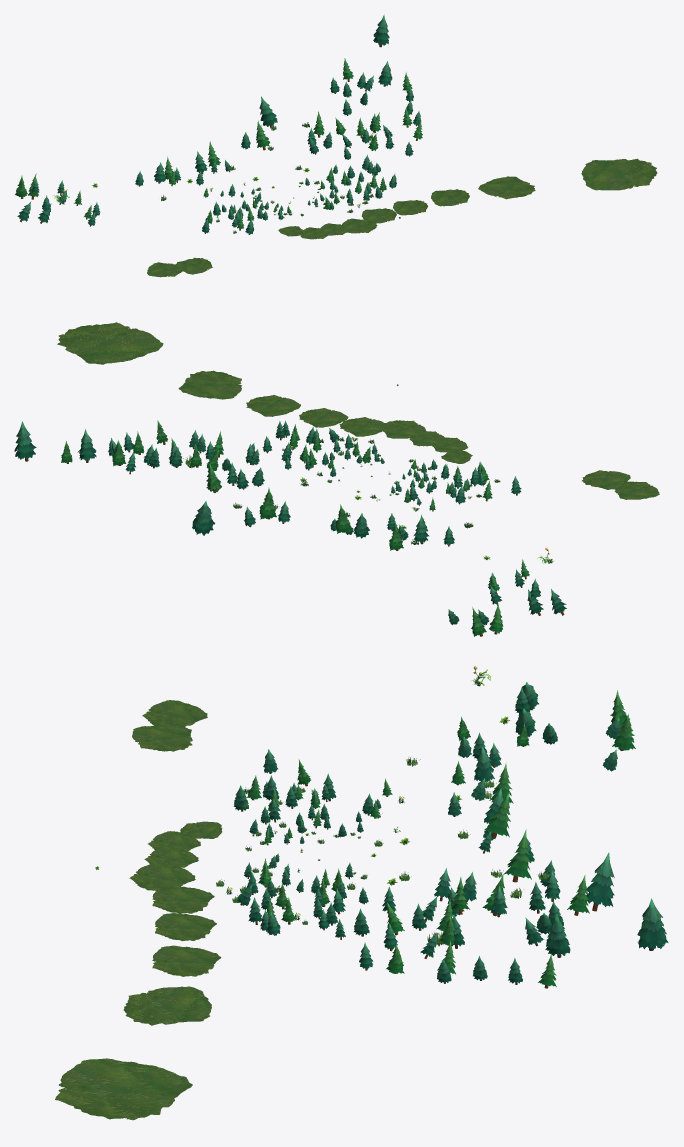
The model's file is ZhiWu.fbx.
3 renders of one model, top to bottom at view 1: azimuth 30°, elevation 25°; view 2: azimuth 150°, elevation 25°; view 3: azimuth 270°, elevation 25°, orthographic. The views are drawn at different scales.
Parts seen in each view (by area): view 1: ZhuCheng_Toutie_01 (10), ZhuCheng_Toutie_01 (9), ZhuCheng_Toutie_01 (6), ZhuCheng_Toutie_01 (3), ZhuCheng_Toutie_01 (8), ZhuCheng_Toutie_01 (5), ZhuCheng_Toutie_01 (4), ZhuCheng_Toutie_01 (7); view 2: ZhuCheng_Toutie_01 (10), ZhuCheng_Toutie_01 (9), ZhuCheng_Toutie_01 (6), ZhuCheng_Toutie_01 (8), ZhuCheng_Toutie_01 (5), ZhuCheng_Toutie_01 (4), ZhuCheng_Toutie_01 (3), ZhuCheng_Toutie_01 (7), ZhuCheng_ZhiWu_01 (38), ZhuCheng_ZhiWu_01 (49); view 3: ZhuCheng_Toutie_01 (10), ZhuCheng_Toutie_01 (9), ZhuCheng_Toutie_01 (6), ZhuCheng_Toutie_01 (8), ZhuCheng_Toutie_01 (3), ZhuCheng_Toutie_01 (5), ZhuCheng_Toutie_01 (4), ZhuCheng_Toutie_01 (7), ZhuCheng_ZhiWu_01 (49), ZhuCheng_ZhiWu_01 (38), ZhuCheng_Toutie_01 (1), ZhuCheng_Toutie_01 (2) (+1 smaller).
Boxes of the visible parts, x1,y1,x2,y2 form: ZhuCheng_Toutie_01 (10): [581, 158, 657, 190]; ZhuCheng_Toutie_01 (9): [478, 176, 535, 199]; ZhuCheng_Toutie_01 (6): [431, 189, 469, 206]; ZhuCheng_Toutie_01 (3): [340, 218, 377, 233]; ZhuCheng_Toutie_01 (8): [176, 257, 212, 274]; ZhuCheng_Toutie_01 (5): [393, 200, 427, 215]; ZhuCheng_Toutie_01 (4): [361, 208, 396, 223]; ZhuCheng_Toutie_01 (7): [147, 262, 182, 277]; ZhuCheng_Toutie_01 (10): [57, 322, 163, 364]; ZhuCheng_Toutie_01 (9): [178, 370, 241, 399]; ZhuCheng_Toutie_01 (6): [246, 395, 300, 416]; ZhuCheng_Toutie_01 (8): [582, 470, 630, 489]; ZhuCheng_Toutie_01 (5): [299, 408, 348, 427]; ZhuCheng_Toutie_01 (4): [339, 417, 389, 436]; ZhuCheng_Toutie_01 (3): [381, 420, 426, 438]; ZhuCheng_Toutie_01 (7): [614, 481, 659, 499]; ZhuCheng_ZhiWu_01 (38): [14, 421, 36, 461]; ZhuCheng_ZhiWu_01 (49): [192, 501, 215, 535]; ZhuCheng_Toutie_01 (10): [55, 1058, 192, 1120]; ZhuCheng_Toutie_01 (9): [123, 986, 211, 1025]; ZhuCheng_Toutie_01 (6): [152, 945, 221, 976]; ZhuCheng_Toutie_01 (8): [132, 725, 192, 751]; ZhuCheng_Toutie_01 (3): [129, 862, 195, 891]; ZhuCheng_Toutie_01 (5): [155, 913, 216, 941]; ZhuCheng_Toutie_01 (4): [152, 886, 214, 913]; ZhuCheng_Toutie_01 (7): [142, 700, 207, 726]; ZhuCheng_ZhiWu_01 (49): [586, 852, 614, 911]; ZhuCheng_ZhiWu_01 (38): [637, 898, 668, 950]; ZhuCheng_Toutie_01 (1): [144, 846, 198, 867]; ZhuCheng_Toutie_01 (2): [148, 831, 200, 851].
Size of the model in its own units: 236 by 38.34 by 143.
